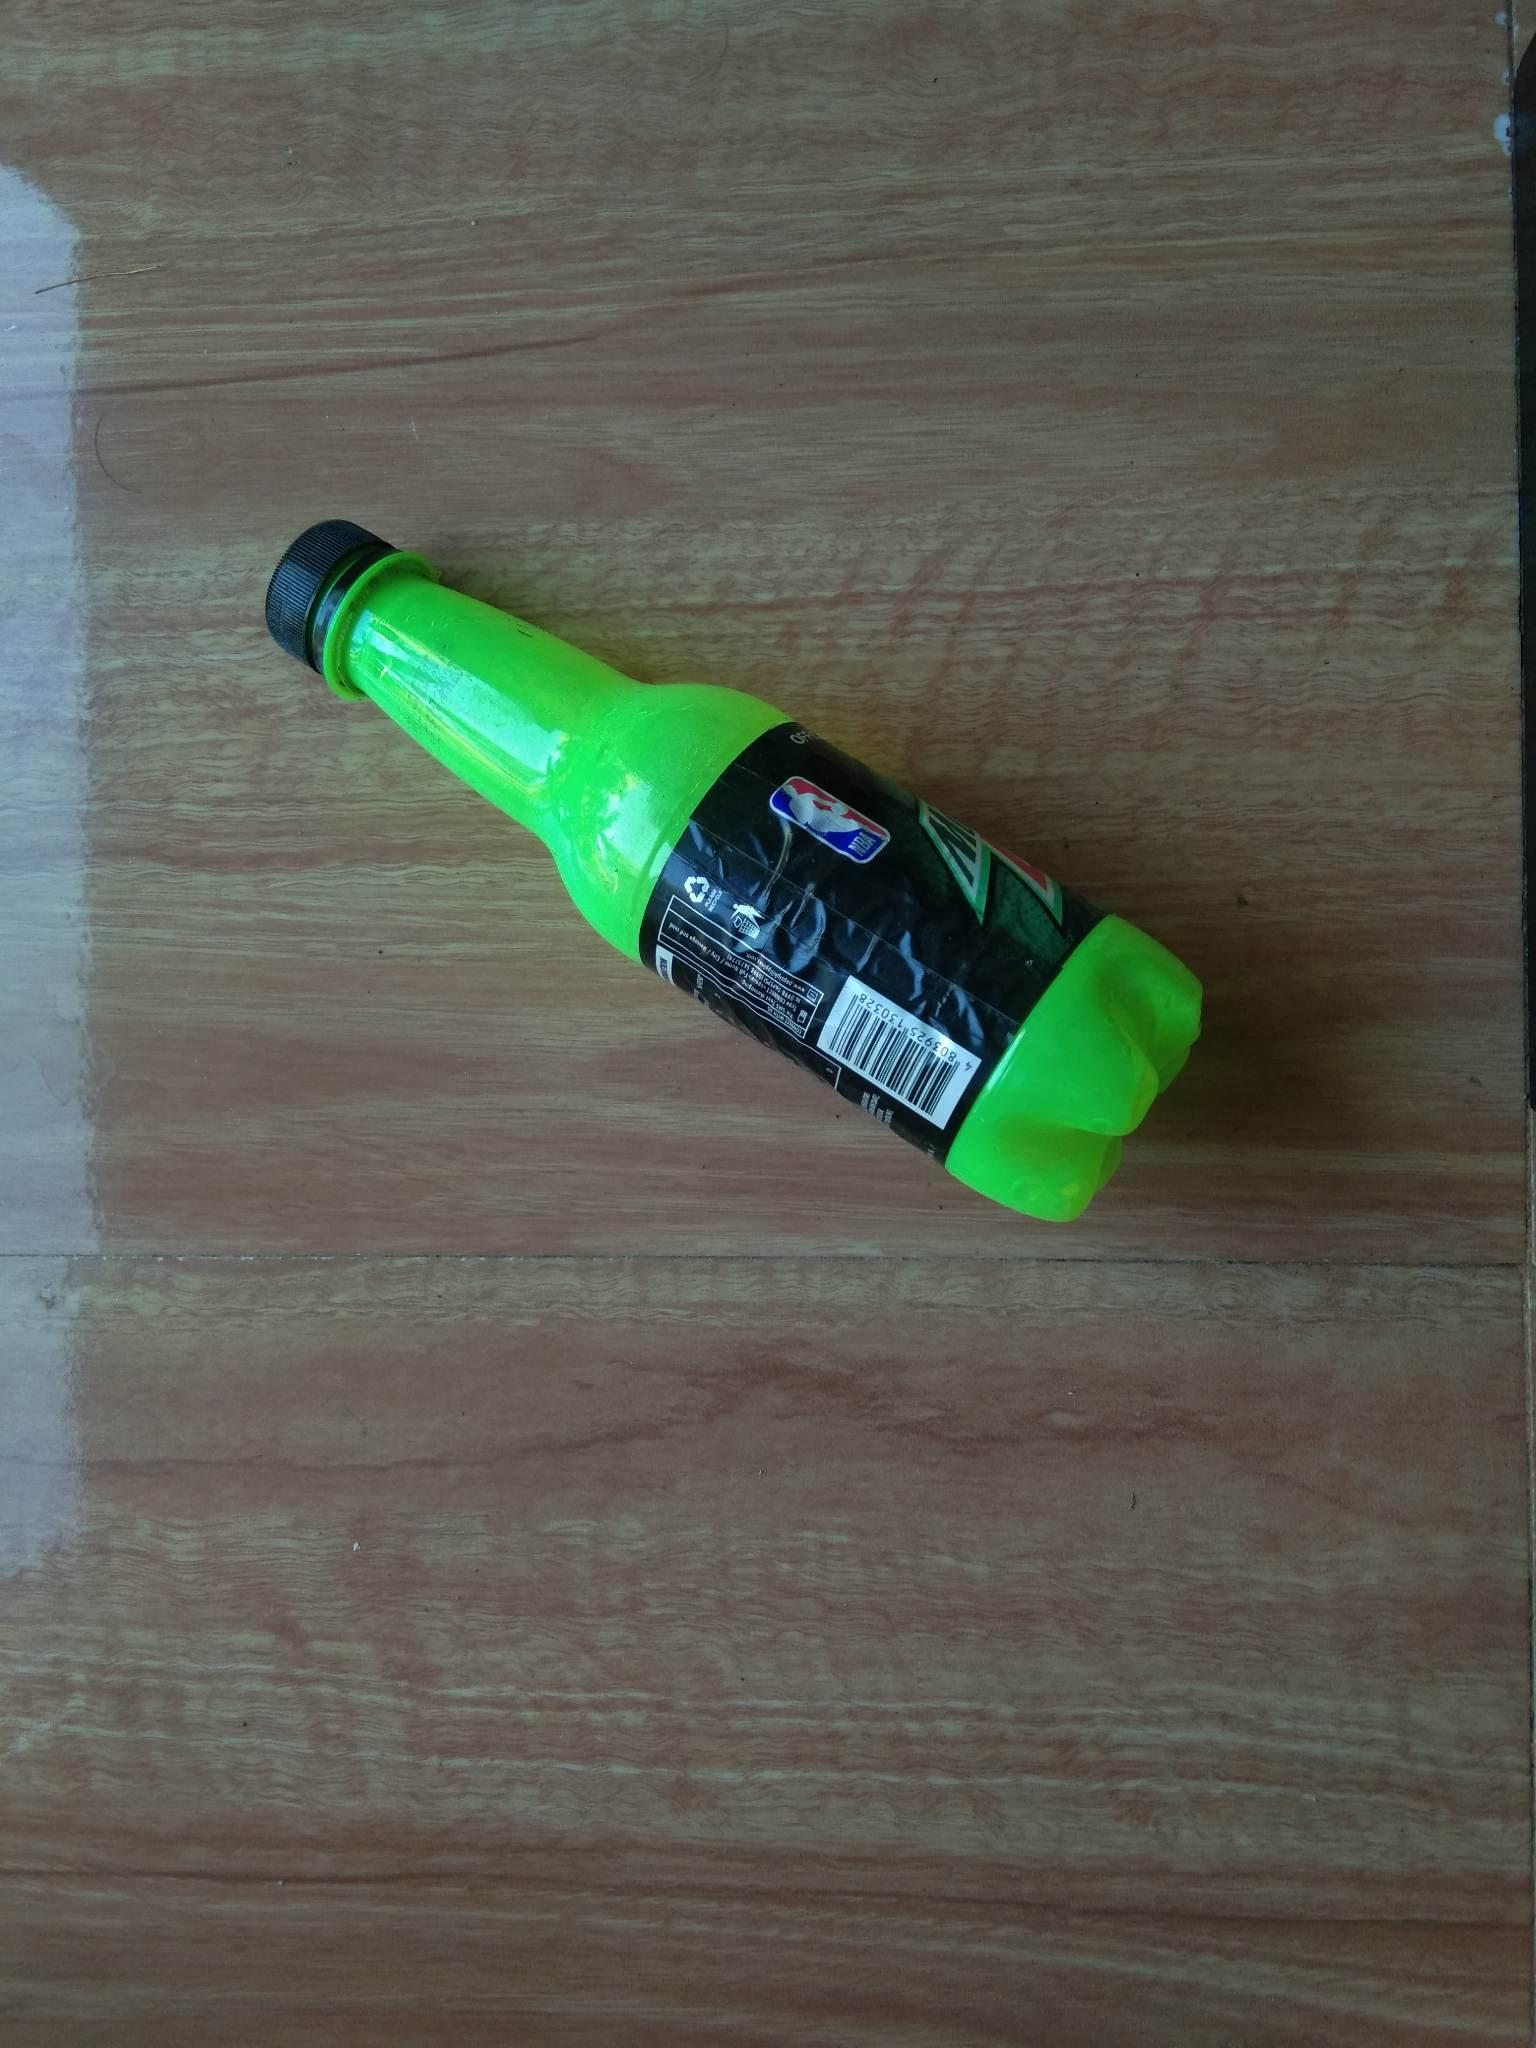plastic: (119, 431, 1341, 1247)
